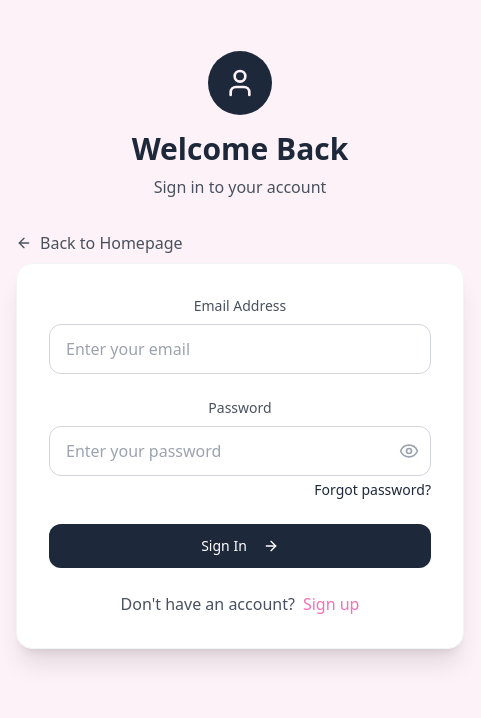
Test: LoginForm encryption-check branch › shows an error and does not navigate when the user Firestore doc does not exist
In the field with placeholder "Enter your email": (240, 349) [49,324,431,374], type "user@example.com"
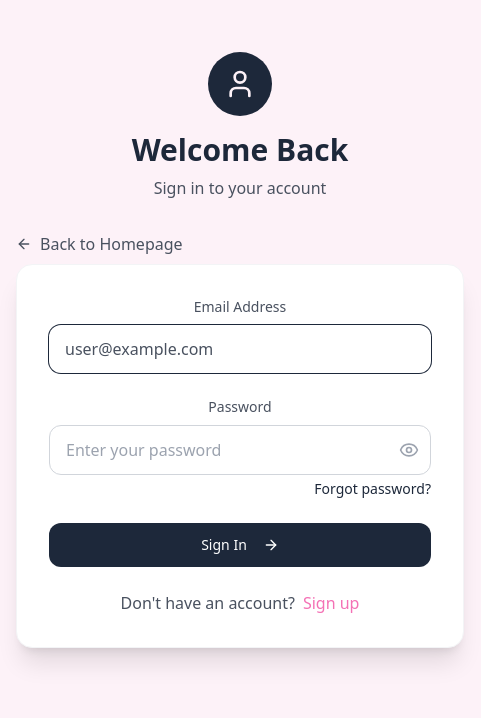
In the password field with placeholder "Enter your password": (240, 450) [49,425,431,475], type "correct-password"
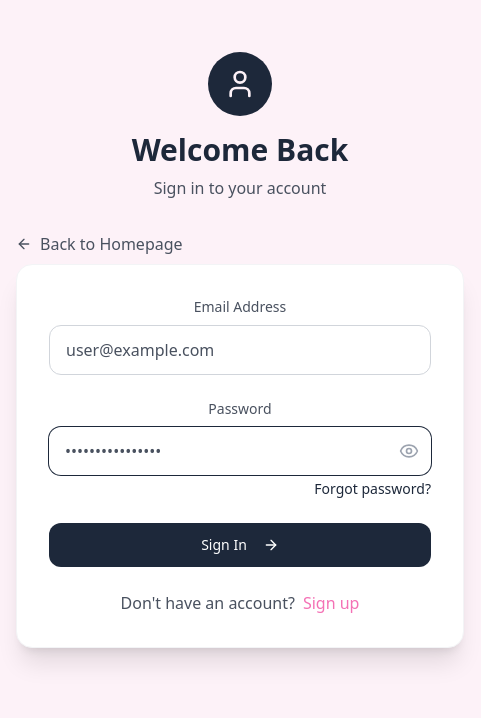
Click the button "Sign In": (240, 545) [49,523,431,567]
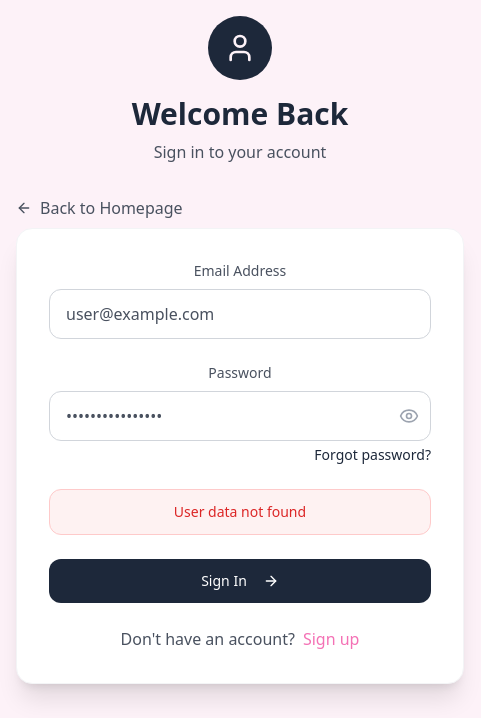
expect the text "User data not found" is shown: met, box [174,502,306,521]
